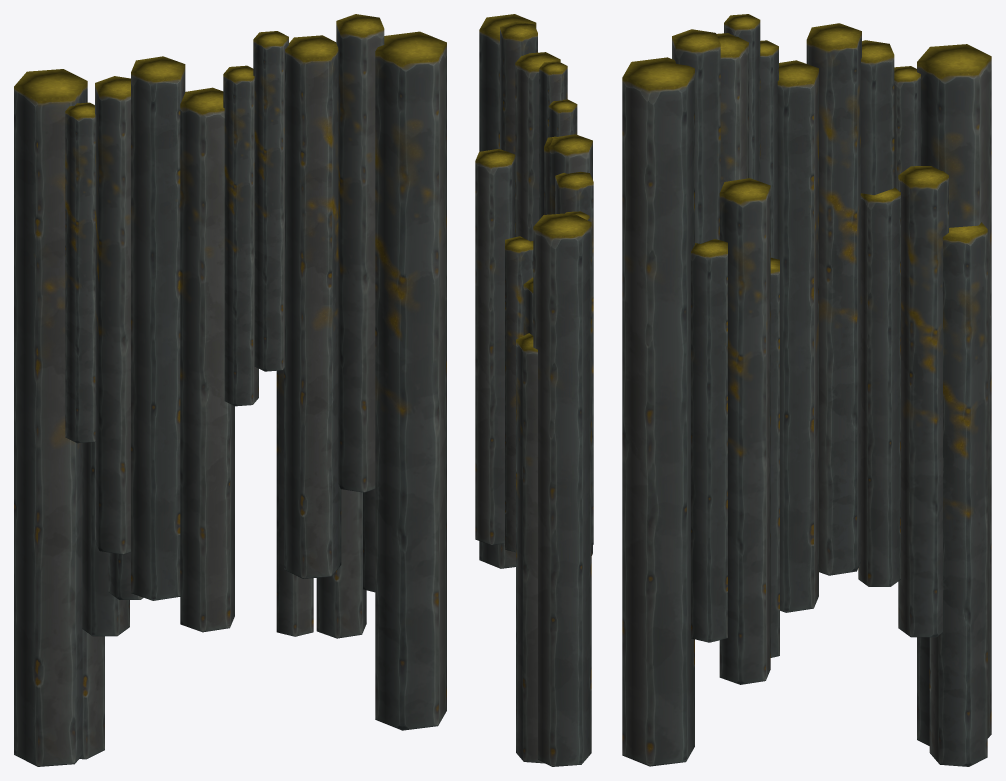
Rendered from SM_Pillar_Merged_02.glb.
The picture shows the model from 3 angles, left to right: view 1: azimuth 30°, elevation 25°; view 2: azimuth 150°, elevation 25°; view 3: azimuth 270°, elevation 25°; orthographic projection. The views are drawn at different scales.
Visible parts, largest first — view 1: SM_Pillar_Merged_02; view 2: SM_Pillar_Merged_02; view 3: SM_Pillar_Merged_02.
Boxes of the visible parts, x1=… form: SM_Pillar_Merged_02: x1=14, y1=14, x2=446, y2=766; SM_Pillar_Merged_02: x1=475, y1=14, x2=593, y2=766; SM_Pillar_Merged_02: x1=622, y1=14, x2=991, y2=766.
Size of the model in its own units: 11.02 by 29.74 by 12.56.
1 material, 1 textured.
